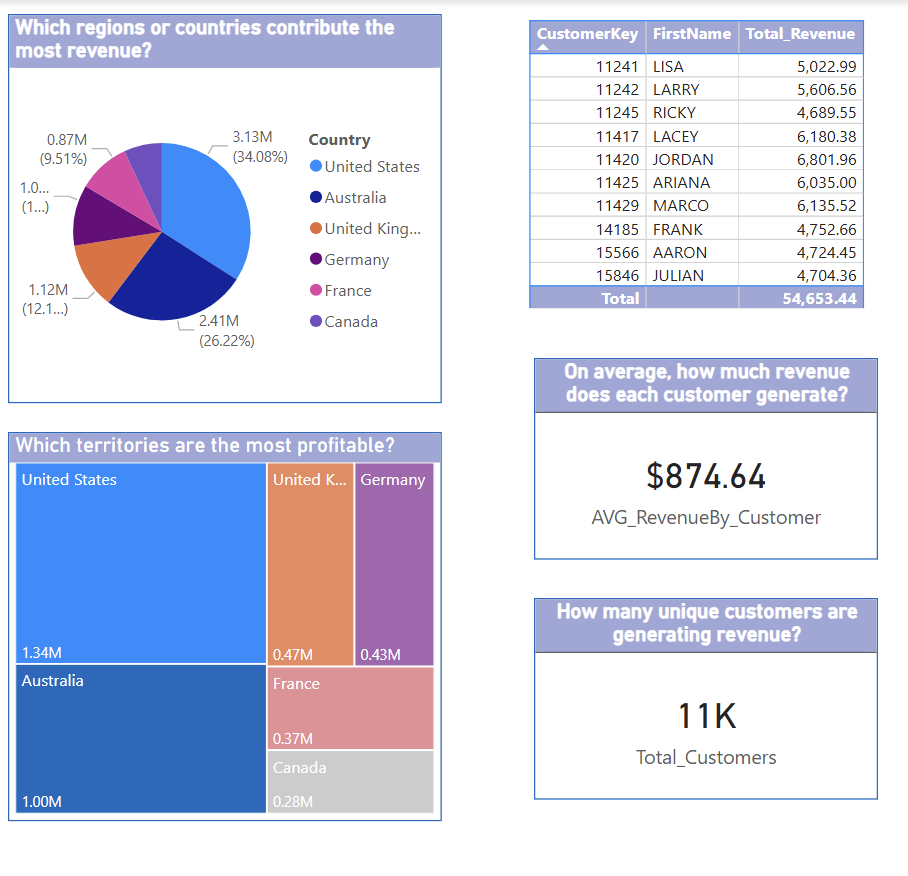

The dashboard page shown, as its layout file describes it:
{"tool":"powerbi","page":{"name":"Page 3","canvas":[1280,720],"ordinal":2},"visuals":[{"type":"card","title":"How many unique customers are generating revenue?","fields":{"Values":["AdventureWorks_Sales_2017.Total_Customers"]},"box":[446.5,488.7,281.7,164.8],"z":0},{"type":"card","title":"On average, how much revenue does each customer generate? ","fields":{"Values":["AdventureWorks_Sales_2017.AVG_RevenueBy_Customer"]},"box":[446.5,293,281.7,164.8],"z":1000},{"type":"tableEx","fields":{"Values":["AdventureWorks_Sales_2017.CustomerKey","AdventureWorks_Customers.FirstName","AdventureWorks_Sales_2017.Total_Revenue"]},"box":[436.6,11.3,297.2,259.2],"z":2000},{"type":"pieChart","title":"Which regions or countries contribute the most revenue?","fields":{"Y":["AdventureWorks_Sales_2017.Total_Revenue"],"Category":["AdventureWorks_Territories.Country"]},"box":[16.9,11.3,354.9,318.3],"z":3000},{"type":"treemap","title":"Which territories are the most profitable?","fields":{"Group":["AdventureWorks_Territories.Country"],"Values":["AdventureWorks_Sales_2017.Total_Profit"]},"box":[16.9,353.5,354.9,318.3],"z":4000}]}

Visuals, with their boxes on the page's 1280x720 design canvas (x1, y1, x2, y2). These are canvas units, not pixel positions in the 908x876 screenshot, which may show the page scaled, cropped or inside an application window:
"How many unique customers are generating revenue?" card: bbox=(446, 489, 728, 654)
"On average, how much revenue does each customer generate? " card: bbox=(446, 293, 728, 458)
tableEx - AdventureWorks_Sales_2017.CustomerKey x AdventureWorks_Customers.FirstName: bbox=(437, 11, 734, 270)
"Which regions or countries contribute the most revenue?" pieChart: bbox=(17, 11, 372, 330)
"Which territories are the most profitable?" treemap: bbox=(17, 354, 372, 672)
